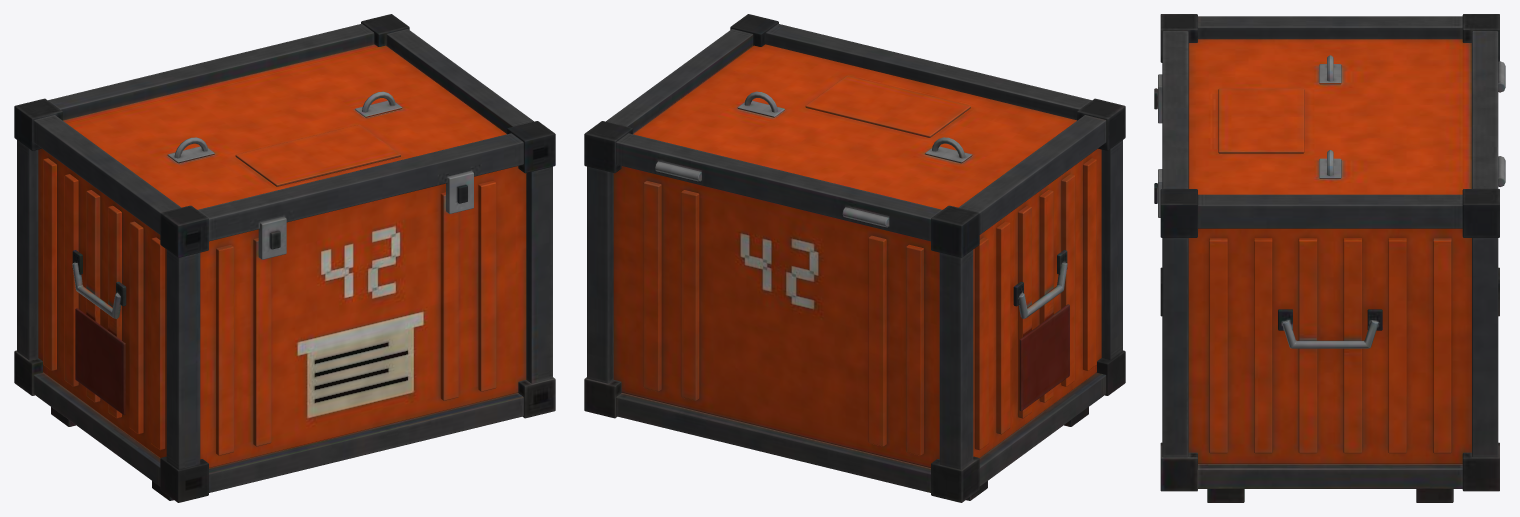
The model's file is crate.glb.
The picture shows the model from 3 angles, left to right: view 1: azimuth 30°, elevation 25°; view 2: azimuth 150°, elevation 25°; view 3: azimuth 270°, elevation 25°; orthographic projection. The views are drawn at different scales.
Parts seen in each view (by area): view 1: crate; view 2: crate; view 3: crate.
Boxes of the visible parts, left/top/right/bottom form: crate: left=14, top=14, right=555, bottom=502; crate: left=584, top=14, right=1125, bottom=502; crate: left=1154, top=14, right=1505, bottom=502.
Size of the model in its own units: 1.22 by 0.9189 by 0.942.
Materials: 1 (1 with a texture image).
